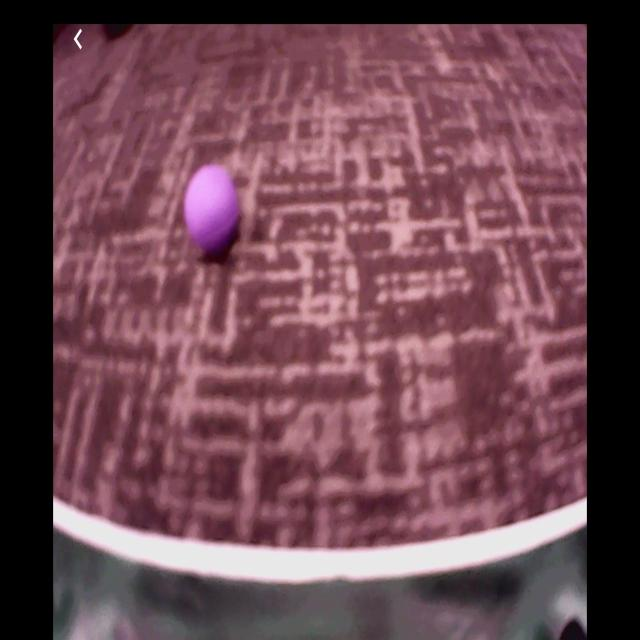ball: (186, 169, 238, 249)
